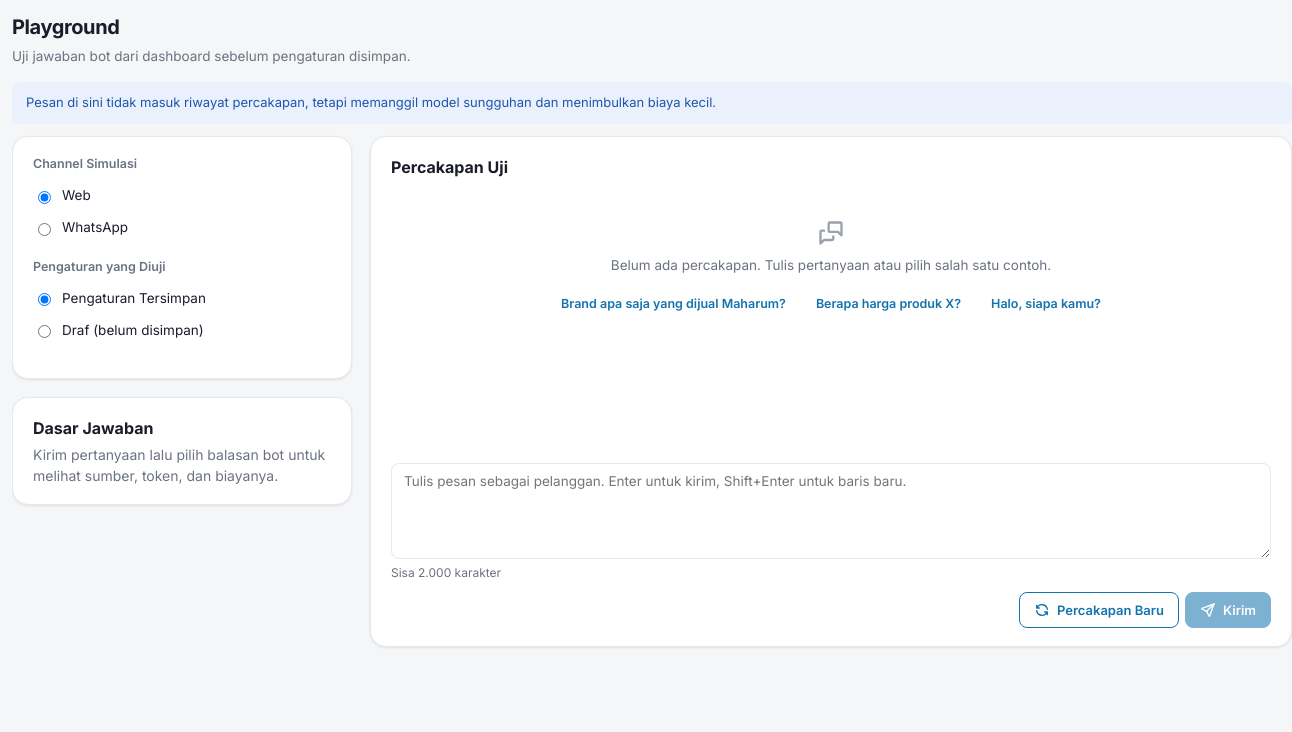
Test case: Halaman Playground › mengirim pesan dengan channel dan riwayat kosong lalu menampilkan balasan sebagai teks biasa
Type "Brand apa saja?" into the text box named "Pesan Uji" at (831, 511), box [391,463,1271,559]
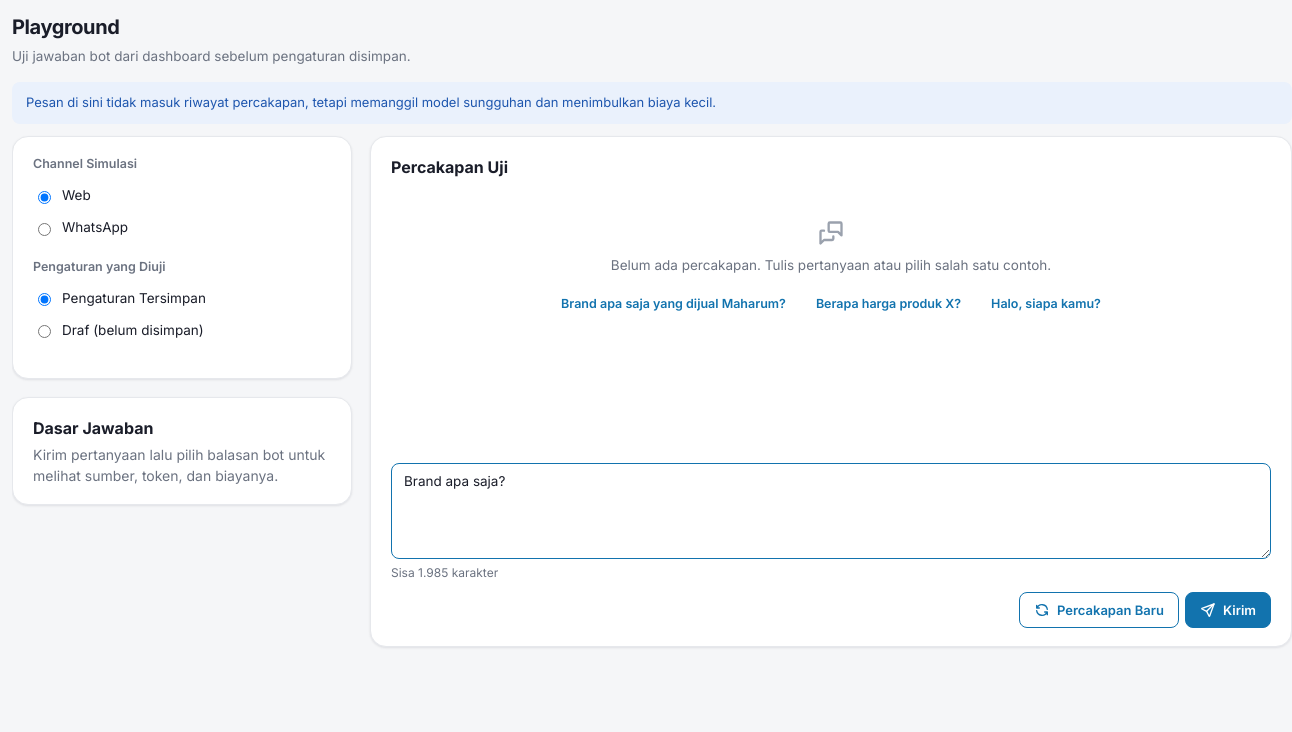
Click the button "Kirim" at (1228, 610), box [1185,592,1271,628]
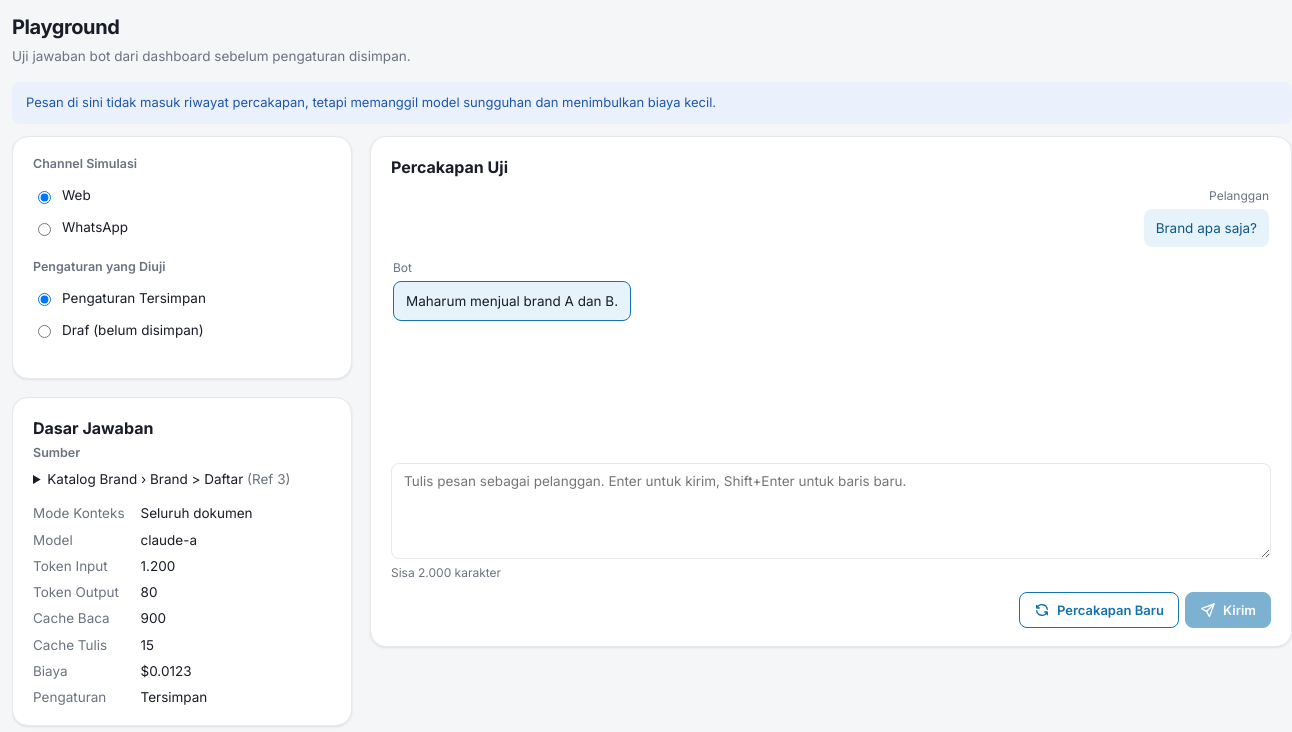
Expected: the button "Maharum menjual brand A dan B." is shown, [393,281,631,321]
Expected: the text box named "Pesan Uji" is empty, [391,463,1271,559]
Expected: the text "Brand apa saja?" is shown, [1144,209,1269,247]
